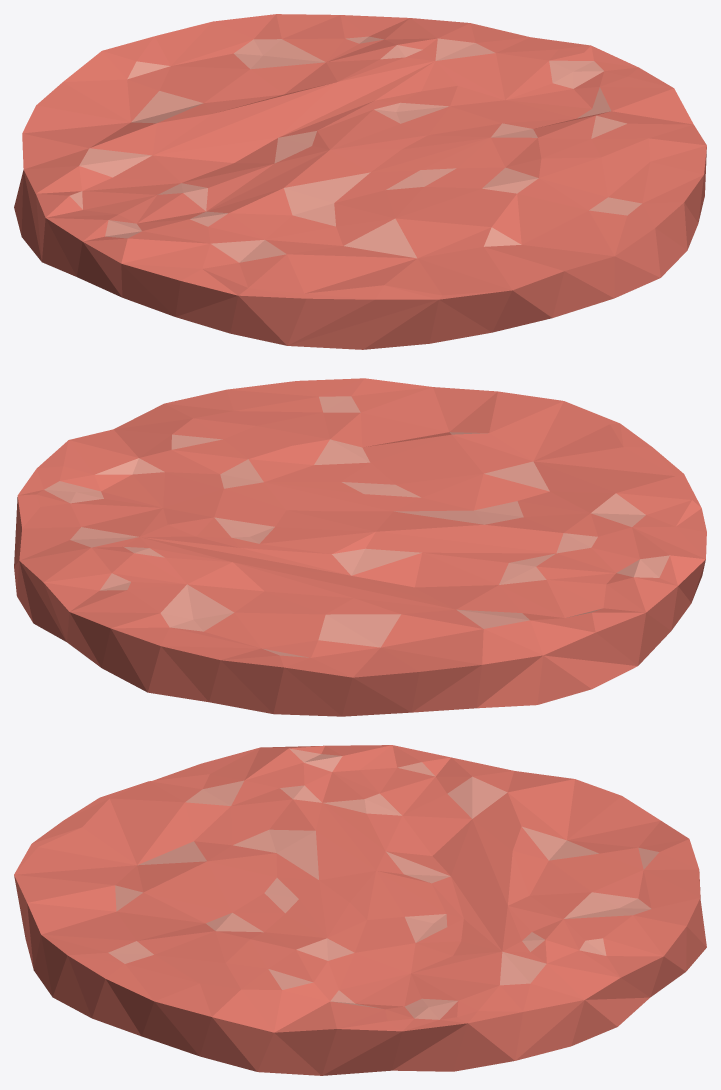
Rendered from salami.fbx.
3 views of the same model, one above another, from view 1: azimuth 30°, elevation 25°; view 2: azimuth 150°, elevation 25°; view 3: azimuth 270°, elevation 25° (orthographic). The views are drawn at different scales.
Visible parts, largest first — view 1: Salami; view 2: Salami; view 3: Salami.
Part boxes in pixels (x1,y1,x2,y2): Salami: (14,14,706,349); Salami: (14,378,706,716); Salami: (14,745,706,1075).
Size of the model in its own units: 93.32 by 9.28 by 95.01.
